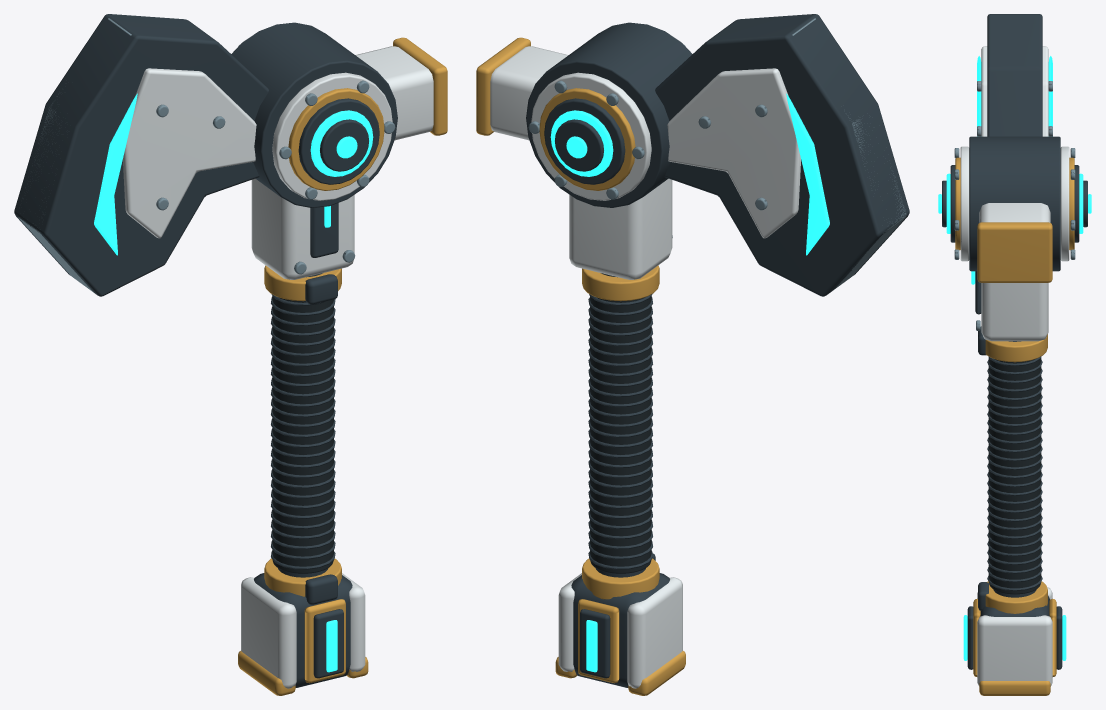
File: axe.glb
3 views of the same model, side by side, from view 1: azimuth 30°, elevation 25°; view 2: azimuth 150°, elevation 25°; view 3: azimuth 270°, elevation 25° (orthographic). The views are drawn at different scales.
Parts seen in each view (by area): view 1: axe_Graphite titanium.001, axe_Ceramic composite.001, axe_Elastomer grip.001, axe_Solar gold functional brackets.001, axe_Cyan light guide.001, axe_Cutting edge.001; view 2: axe_Graphite titanium.001, axe_Ceramic composite.001, axe_Elastomer grip.001, axe_Solar gold functional brackets.001, axe_Cyan light guide.001, axe_Cutting edge.001; view 3: axe_Graphite titanium.001, axe_Ceramic composite.001, axe_Solar gold functional brackets.001, axe_Elastomer grip.001, axe_Cyan light guide.001, axe_Cutting edge.001.
Boxes of the visible parts, box(x1,y1,x2,y2) form: axe_Graphite titanium.001: box(14, 14, 397, 687); axe_Ceramic composite.001: box(123, 46, 433, 688); axe_Elastomer grip.001: box(272, 296, 333, 573); axe_Solar gold functional brackets.001: box(238, 37, 447, 695); axe_Cyan light guide.001: box(94, 93, 373, 672); axe_Cutting edge.001: box(18, 18, 395, 292); axe_Graphite titanium.001: box(526, 14, 909, 687); axe_Ceramic composite.001: box(490, 46, 800, 688); axe_Elastomer grip.001: box(590, 296, 651, 573); axe_Solar gold functional brackets.001: box(476, 37, 685, 695); axe_Cyan light guide.001: box(550, 93, 829, 672); axe_Cutting edge.001: box(528, 18, 906, 290); axe_Graphite titanium.001: box(942, 14, 1087, 669); axe_Ceramic composite.001: box(960, 46, 1069, 686); axe_Solar gold functional brackets.001: box(955, 157, 1074, 695); axe_Elastomer grip.001: box(988, 357, 1041, 594); axe_Cyan light guide.001: box(938, 56, 1091, 660); axe_Cutting edge.001: box(954, 81, 1075, 330).
Bounding box in the file's own units: 0.9856 × 1.64 × 0.386.
